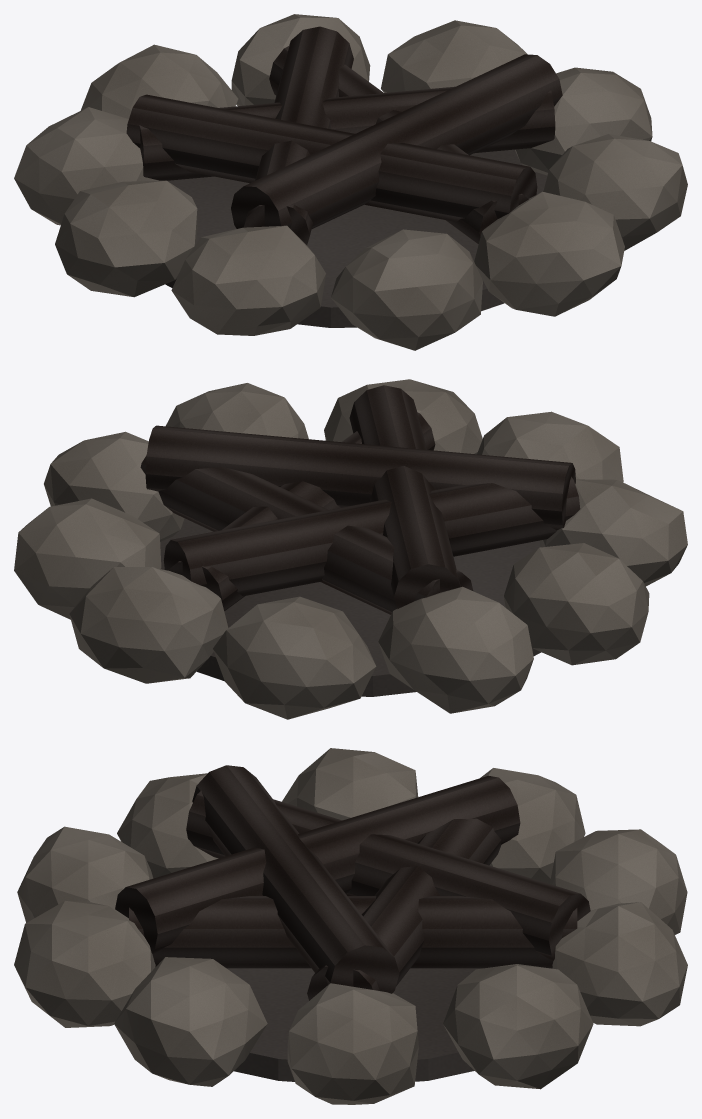
The model's file is prop_campfire.fbx.
3 views of the same model, one above another, from view 1: azimuth 30°, elevation 25°; view 2: azimuth 150°, elevation 25°; view 3: azimuth 270°, elevation 25° (orthographic). The views are drawn at different scales.
Visible parts, largest first — view 1: prop_campfire; view 2: prop_campfire; view 3: prop_campfire.
Part boxes in pixels (x1,y1,x2,y2): prop_campfire: (14,14,687,350); prop_campfire: (14,379,687,719); prop_campfire: (14,748,687,1104).
Size of the model in its own units: 59 by 55.63 by 12.73.
Materials: 1 (1 with a texture image).
